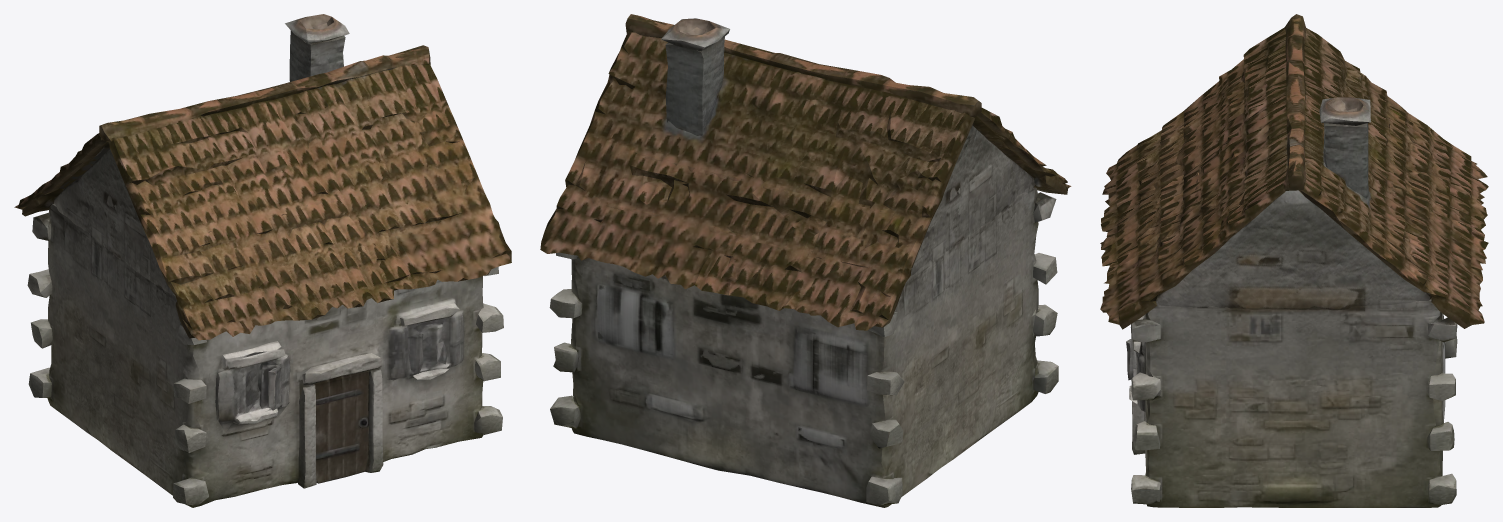
File: 建筑-石屋-stonehouse.glb
3 renders of one model, left to right at view 1: azimuth 30°, elevation 25°; view 2: azimuth 150°, elevation 25°; view 3: azimuth 270°, elevation 25°, orthographic. The views are drawn at different scales.
Visible parts, largest first — view 1: RoofPanelS, WallBlock, Gable, Door, RidgeCap, RoofPanelN, ChimneyStack, DoorJambL, DoorJambR, DoorLintel, ChimneyCap, Quoin_0_0 (+10 smaller); view 2: WallBlock, RoofPanelN, Gable, RidgeCap, ChimneyStack, RoofPanelS, ChimneyCap, Quoin_2_0, Quoin_3_0, Quoin_2_1, Quoin_2_2, Quoin_3_2 (+6 smaller); view 3: WallBlock, RoofPanelS, RoofPanelN, Gable, RidgeCap, ChimneyStack, ChimneyCap, Quoin_3_0, Quoin_1_0, Quoin_1_2, Quoin_3_2, Quoin_1_1 (+3 smaller).
Boxes of the visible parts, x1=… form: RoofPanelS: x1=109, y1=63, x2=511, y2=340; WallBlock: x1=47, y1=203, x2=483, y2=507; Gable: x1=53, y1=149, x2=175, y2=295; Door: x1=309, y1=370, x2=369, y2=483; RidgeCap: x1=99, y1=45, x2=430, y2=142; RoofPanelN: x1=14, y1=83, x2=338, y2=216; ChimneyStack: x1=289, y1=30, x2=345, y2=81; DoorJambL: x1=298, y1=385, x2=316, y2=488; DoorJambR: x1=365, y1=367, x2=383, y2=472; DoorLintel: x1=302, y1=353, x2=381, y2=385; ChimneyCap: x1=285, y1=14, x2=349, y2=44; Quoin_0_0: x1=173, y1=477, x2=208, y2=505; WallBlock: x1=571, y1=187, x2=1038, y2=507; RoofPanelN: x1=540, y1=31, x2=974, y2=330; Gable: x1=911, y1=125, x2=1034, y2=275; RidgeCap: x1=625, y1=14, x2=981, y2=117; ChimneyStack: x1=665, y1=30, x2=724, y2=135; RoofPanelS: x1=972, y1=108, x2=1071, y2=194; ChimneyCap: x1=661, y1=18, x2=729, y2=51; Quoin_2_0: x1=866, y1=476, x2=902, y2=505; Quoin_3_0: x1=550, y1=395, x2=580, y2=428; Quoin_2_1: x1=870, y1=419, x2=903, y2=448; Quoin_2_2: x1=867, y1=371, x2=904, y2=395; Quoin_3_2: x1=549, y1=289, x2=582, y2=318; WallBlock: x1=1136, y1=295, x2=1445, y2=507; RoofPanelS: x1=1100, y1=27, x2=1287, y2=329; RoofPanelN: x1=1299, y1=28, x2=1488, y2=328; Gable: x1=1157, y1=190, x2=1431, y2=310; RidgeCap: x1=1282, y1=14, x2=1305, y2=190; ChimneyStack: x1=1323, y1=109, x2=1368, y2=198; ChimneyCap: x1=1319, y1=97, x2=1370, y2=125; Quoin_3_0: x1=1427, y1=473, x2=1456, y2=504; Quoin_1_0: x1=1131, y1=475, x2=1160, y2=504; Quoin_1_2: x1=1131, y1=372, x2=1160, y2=400; Quoin_3_2: x1=1427, y1=373, x2=1455, y2=401; Quoin_1_1: x1=1133, y1=421, x2=1160, y2=450.
Bounding box in the file's own units: 1.87 × 2 × 1.89.
1 material, 1 textured.
